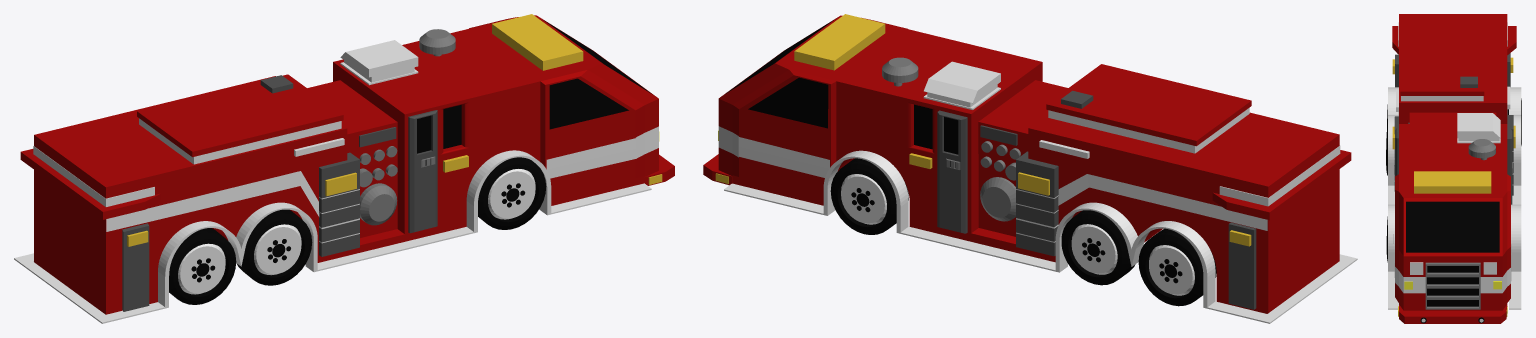
The model's file is Camion-Bomberos.glb.
The picture shows the model from 3 angles, left to right: view 1: azimuth 30°, elevation 25°; view 2: azimuth 150°, elevation 25°; view 3: azimuth 270°, elevation 25°; orthographic projection. The views are drawn at different scales.
Visible parts, largest first — view 1: Camion; view 2: Camion; view 3: Camion.
Part boxes in pixels (x1=…): Camion: x1=14, y1=14, x2=674, y2=323; Camion: x1=703, y1=14, x2=1357, y2=323; Camion: x1=1386, y1=14, x2=1521, y2=323.
Size of the model in its own units: 18.53 by 4.79 by 4.93.
